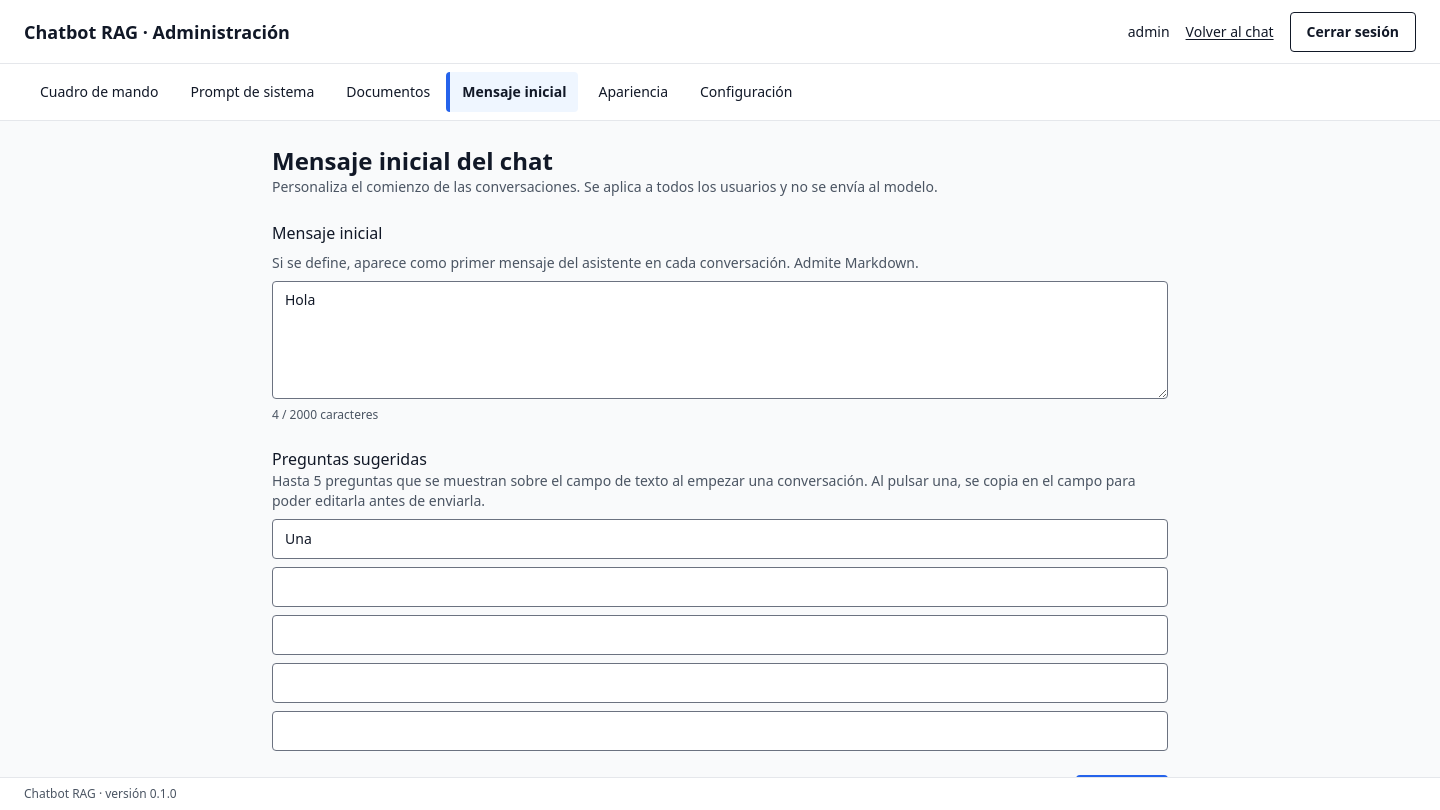
Test case: ChatStartPage › guarda el mensaje y las preguntas descartando las vacías
Replace the text in the text box labelled "Mensaje inicial" with "  Bienvenido  " at point(720, 340), box top-left (272, 281), bottom-right (1168, 399)
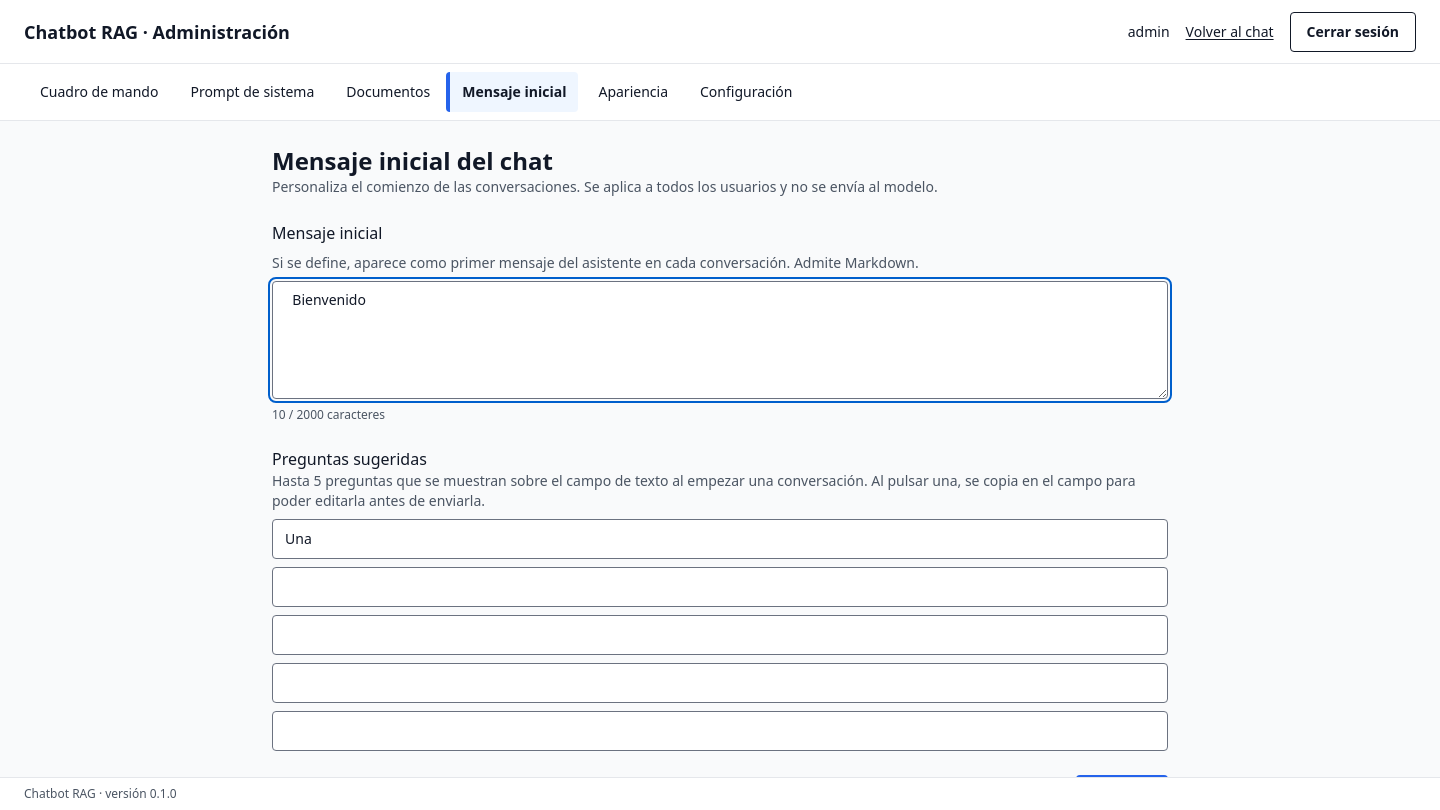
Clear the field named "Pregunta sugerida 1" at point(720, 539), box top-left (272, 519), bottom-right (1168, 559)
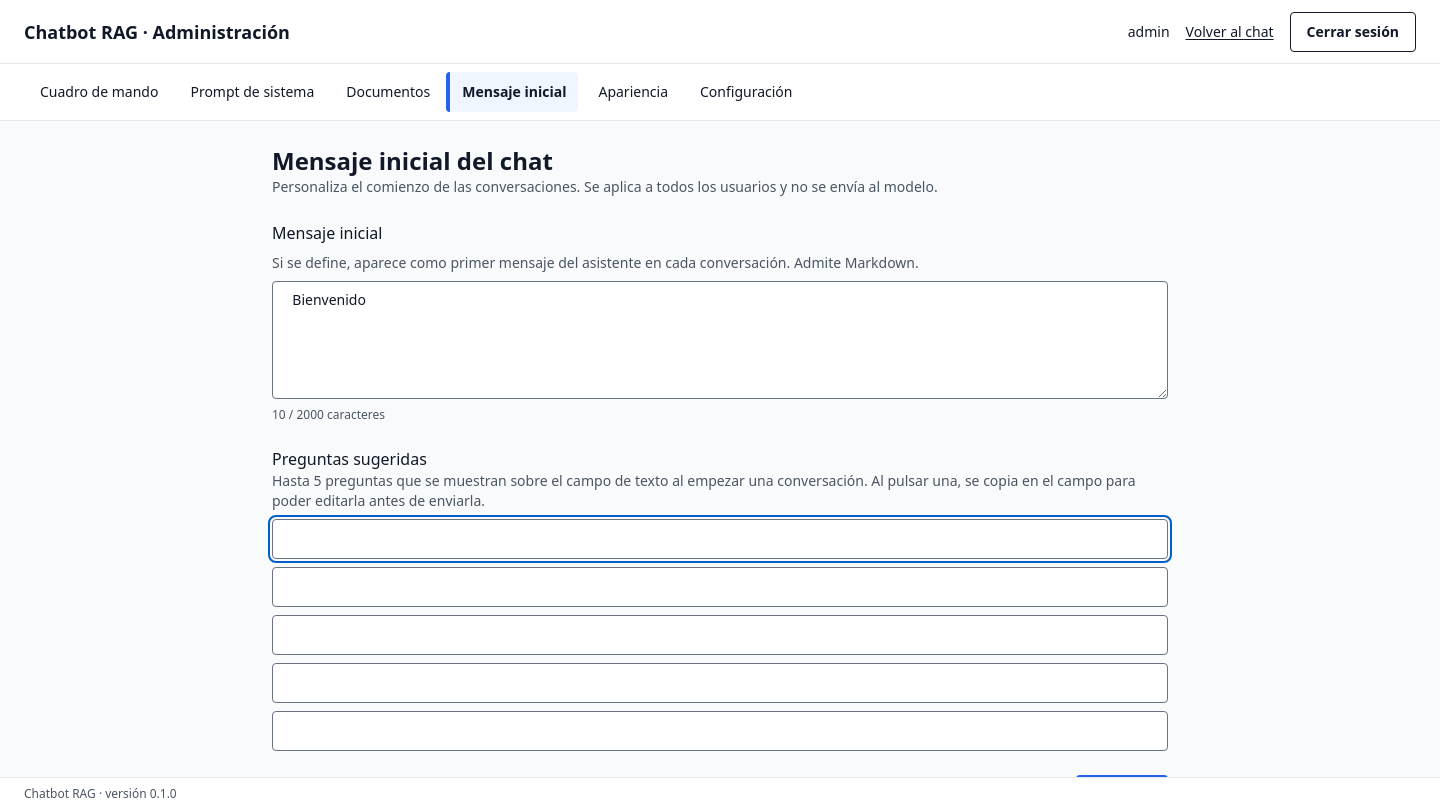
Type "¿Horario?" into the field named "Pregunta sugerida 3".
click(720, 635); type("¿Horario?")  # box top-left (272, 615), bottom-right (1168, 655)
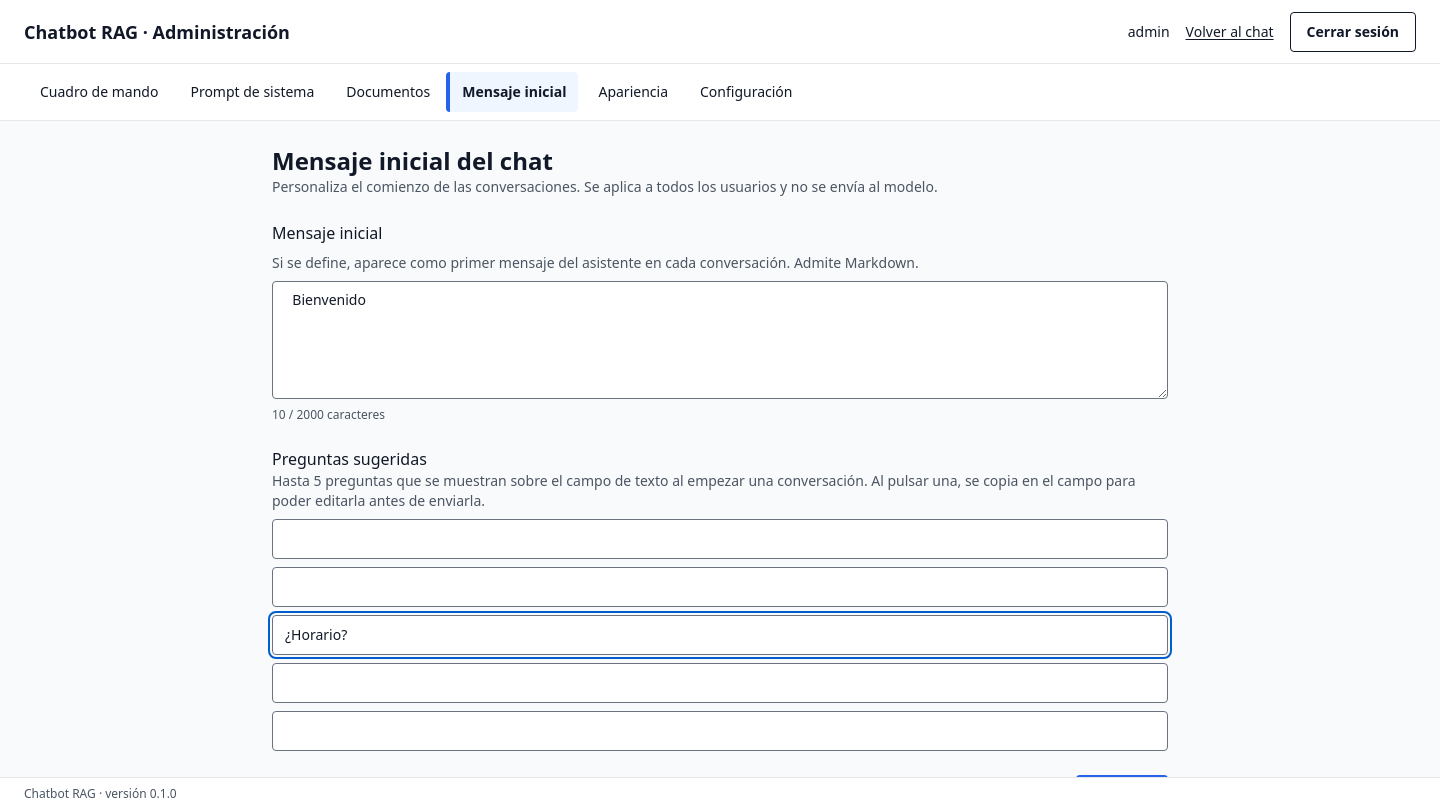
Type "¿Teletrabajo?" into the field named "Pregunta sugerida 5".
click(720, 731); type("¿Teletrabajo?")  # box top-left (272, 711), bottom-right (1168, 751)
(page scrolled)
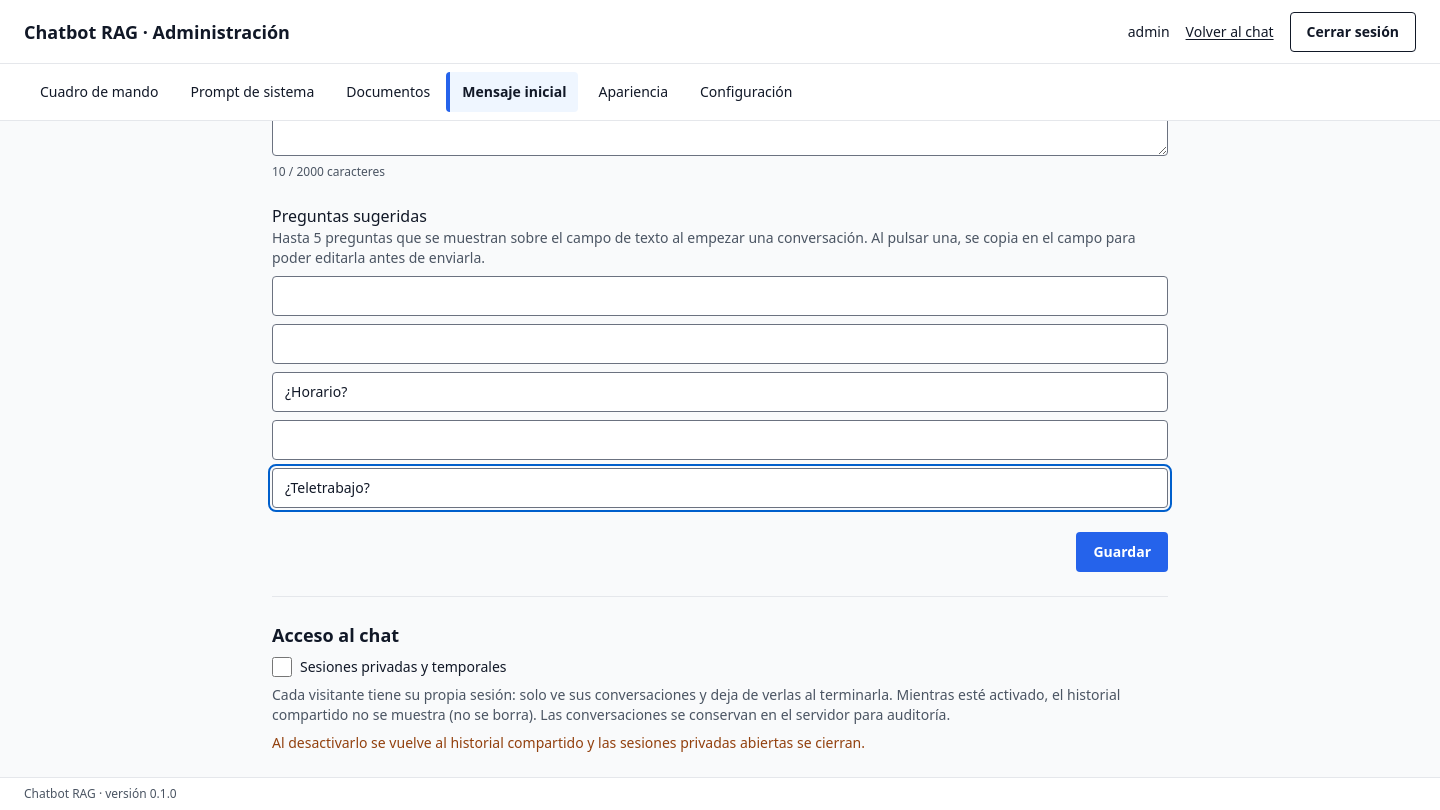
Click the button "Guardar".
click(1122, 552)  # box top-left (1076, 532), bottom-right (1168, 572)
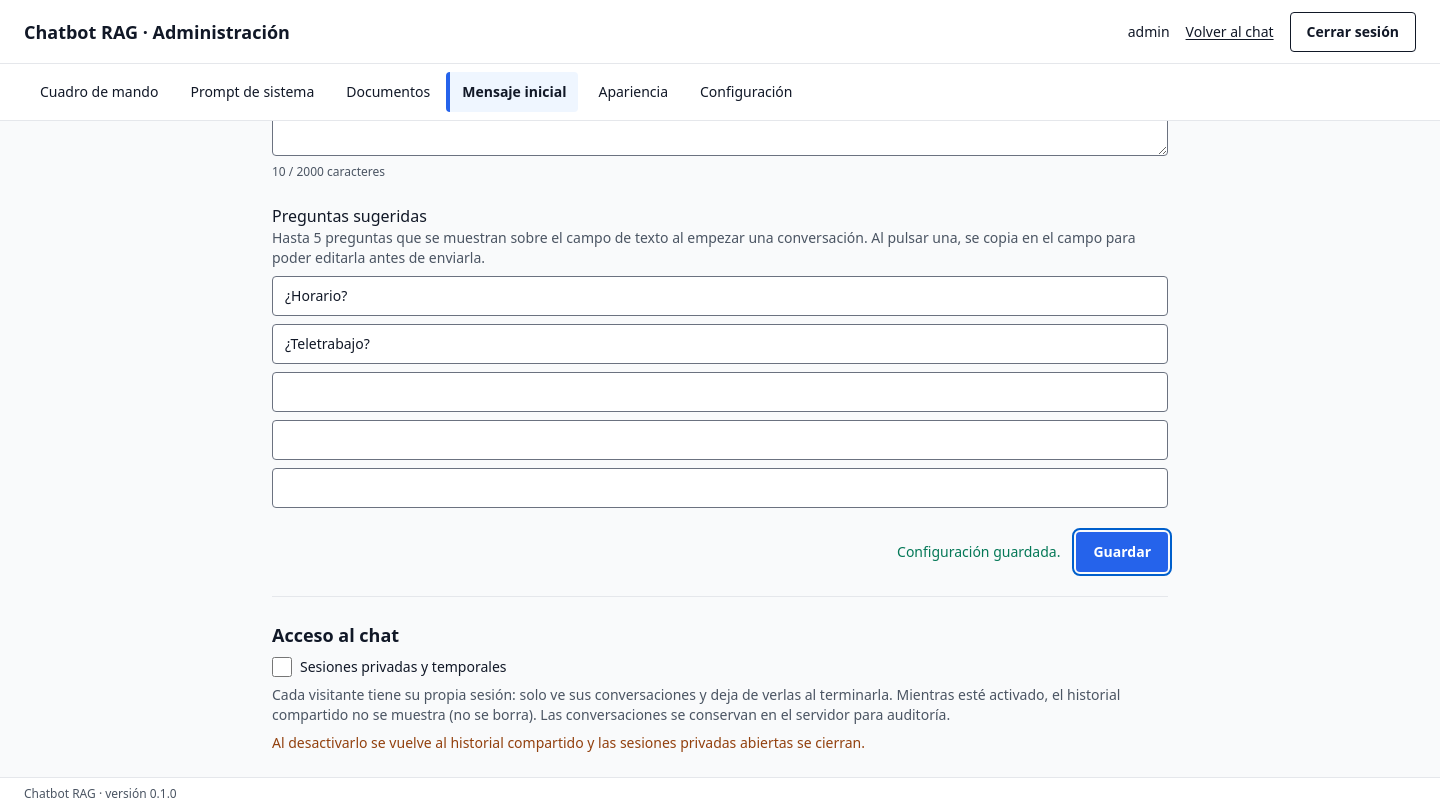
expect the message reads "Configuración guardada.": met, box top-left (897, 542), bottom-right (1060, 561)
Type "x" into the field named "Pregunta sugerida 3".
click(720, 392); type("x")  # box top-left (272, 372), bottom-right (1168, 412)
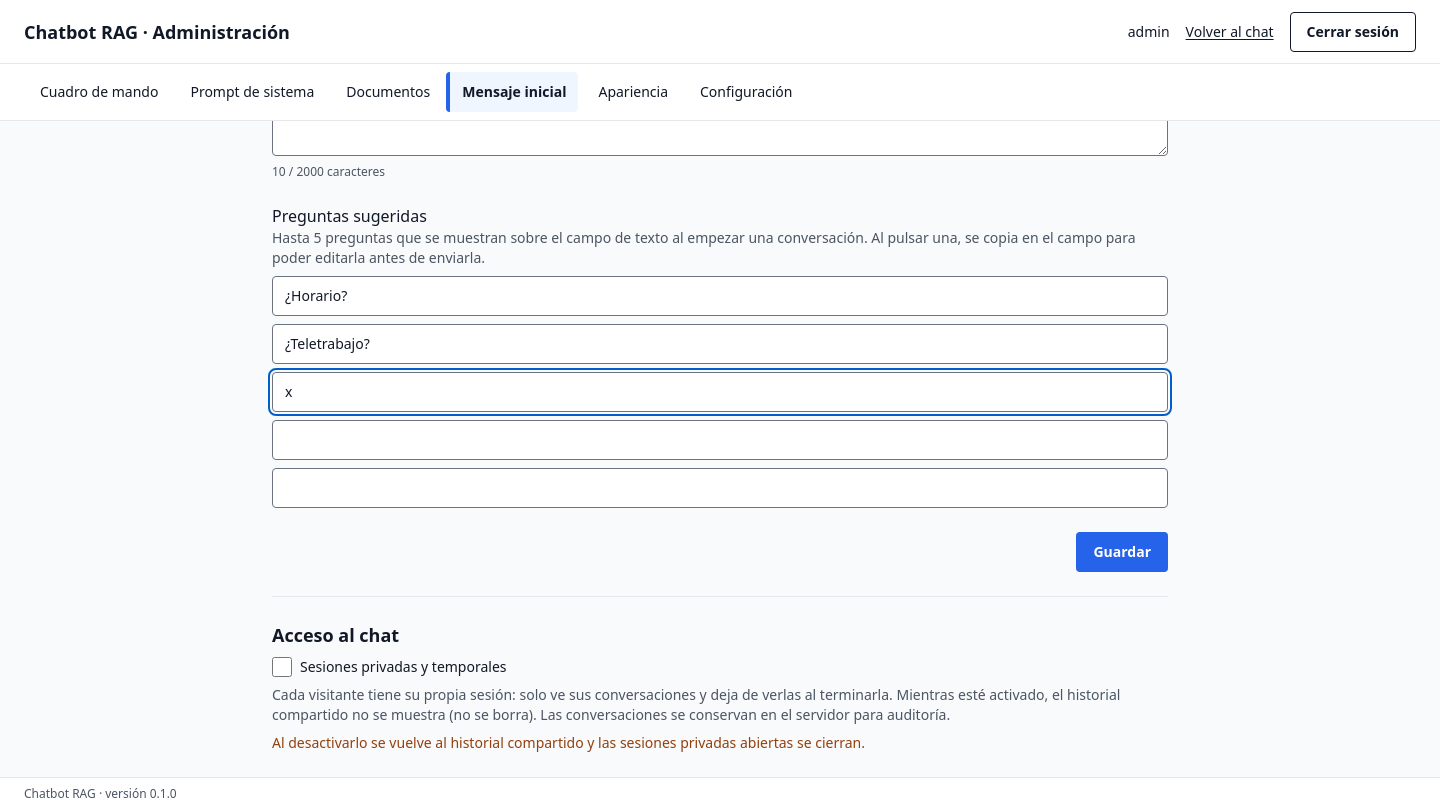
expect the message "Configuración guardada." is gone: met
